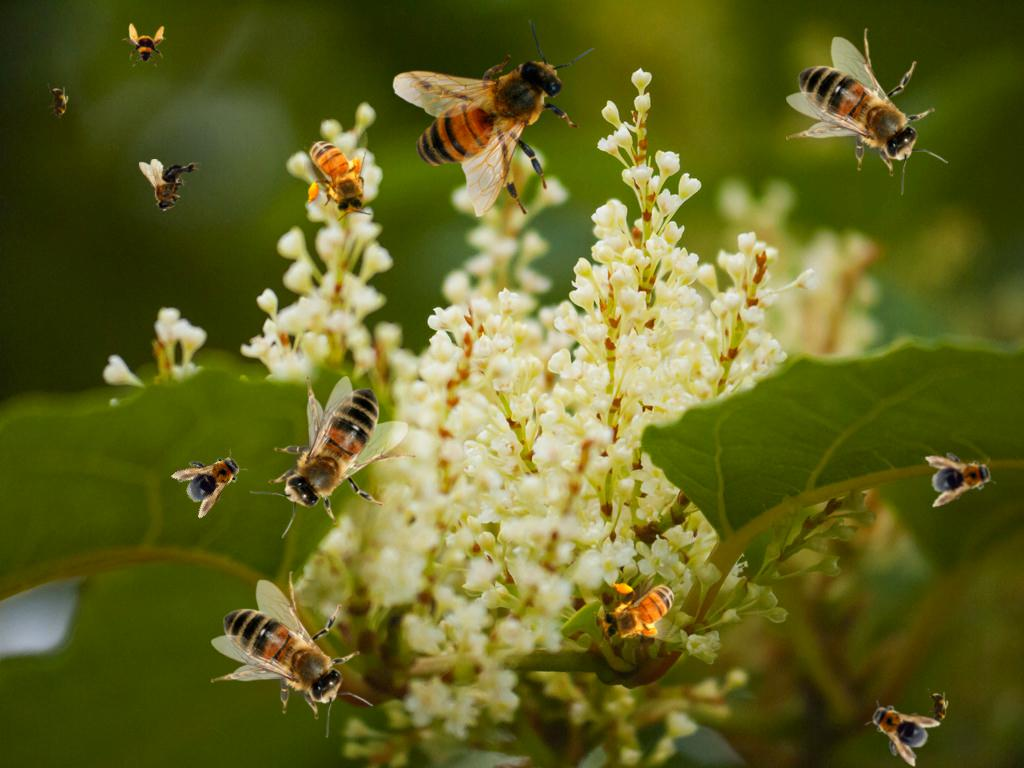Bee: (392, 18, 596, 217), (211, 571, 373, 738), (250, 376, 417, 538), (786, 28, 948, 195), (169, 436, 255, 520), (856, 689, 942, 768), (304, 128, 372, 221), (594, 579, 687, 647), (922, 443, 1000, 509), (139, 159, 201, 212), (122, 23, 166, 67), (927, 688, 949, 728), (47, 83, 69, 123)
